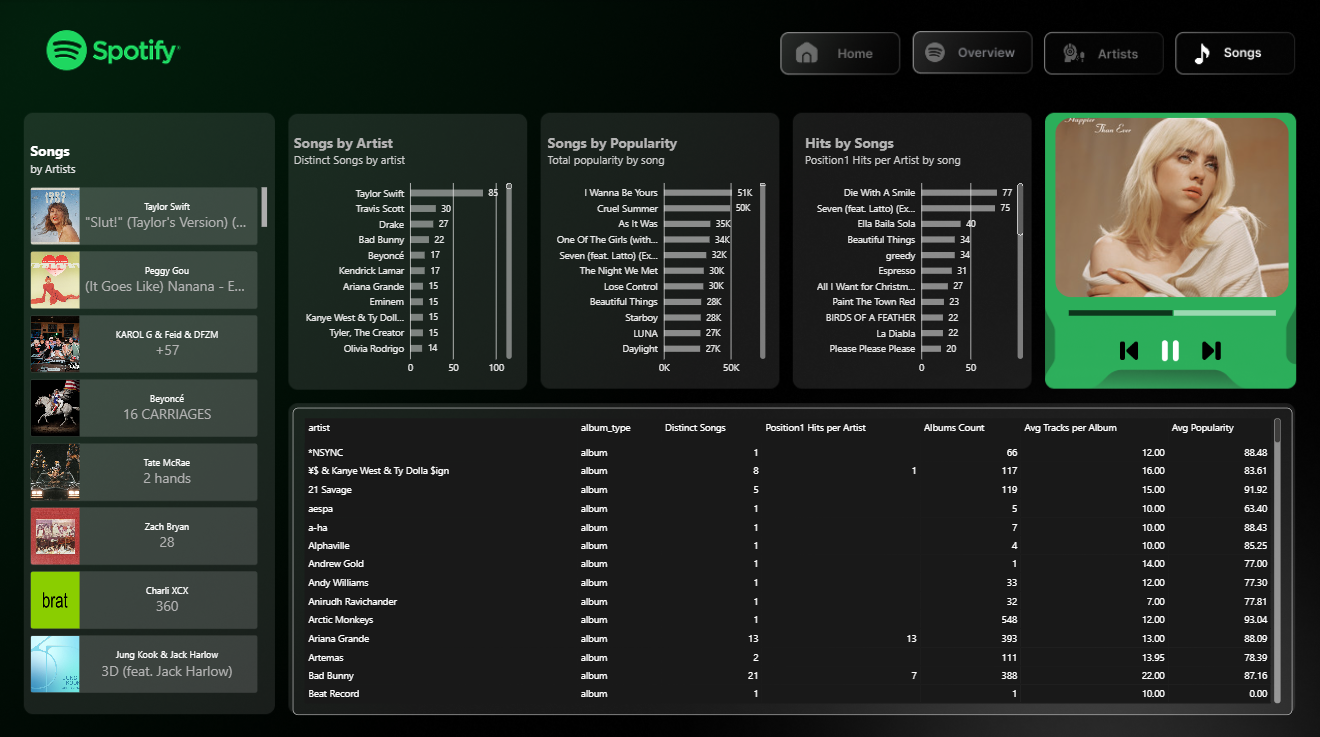

The dashboard page shown, as its layout file describes it:
{"tool":"powerbi","page":{"name":"Songs","canvas":[1920,1080],"ordinal":3},"visuals":[{"type":"actionButton","box":[1127.9,46.2,174.4,60.7],"z":0},{"type":"actionButton","box":[1321.9,46.2,174.4,60.7],"z":1000},{"type":"actionButton","box":[1510.1,46.2,174.4,60.7],"z":2000},{"type":"actionButton","box":[1704.1,48.2,174.4,60.7],"z":3000},{"type":"advancedSlicerVisual","title":"Songs ","fields":{"Values":["Top-50-world.song"]},"box":[45.1,207.7,344.9,809.3],"z":3002},{"type":"hundredPercentStackedBarChart","fields":{"Y":["_Measures.Avg Popularity","_Measures.Avg Popularity Explicit"]},"box":[1538.3,409.6,333.1,86.2],"z":3005},{"type":"image","box":[1622.1,496.6,40,30],"z":3006},{"type":"image","box":[1741.7,496.6,40,30],"z":3007},{"type":"image","box":[1681.9,496.6,40,30],"z":3008},{"type":"image","box":[1534.4,172.4,339,260.6],"z":3009},{"type":"tableEx","fields":{"Values":["Top-50-world.artist","Top-50-world.album_type","_Measures.Distinct Songs","_Measures.Position1 Hits per Artist","_Measures.Albums Count","_Measures.Avg Tracks per Album","_Measures.Avg Popularity"]},"box":[427.2,593.8,1452.1,446.8],"z":3010},{"type":"clusteredBarChart","title":"Hits by Songs","fields":{"Category":["Top-50-world.song"],"Y":["_Measures.Position1 Hits per Artist"]},"box":[1154.2,180.3,348.8,386],"z":3013},{"type":"clusteredBarChart","title":"Songs by Artist","fields":{"Category":["Top-50-world.artist"],"Y":["_Measures.Distinct Songs"]},"box":[412.5,180,348.8,386],"z":3014},{"type":"clusteredBarChart","title":"Songs by Popularity","fields":{"Category":["Top-50-world.song"],"Y":["Sum(Top-50-world.popularity)"]},"box":[779.9,180.3,348.8,386],"z":3016},{"type":"textbox","box":[45,0,345,150],"z":3017}]}

Visuals, with their boxes in screenshot pixels (x1, y1, x2, y2), scaled from the page's 1920x1080 canvas onto the 1320x737 screenshot:
actionButton: (775, 32, 895, 73)
actionButton: (909, 32, 1029, 73)
actionButton: (1038, 32, 1158, 73)
actionButton: (1172, 33, 1291, 74)
"Songs " advancedSlicerVisual: (31, 142, 268, 694)
hundredPercentStackedBarChart - _Measures.Avg Popularity x _Measures.Avg Popularity Explicit: (1058, 280, 1287, 338)
image: (1115, 339, 1143, 359)
image: (1197, 339, 1225, 359)
image: (1156, 339, 1184, 359)
image: (1055, 118, 1288, 295)
tableEx - Top-50-world.artist x Top-50-world.album_type: (294, 405, 1292, 710)
"Hits by Songs" clusteredBarChart: (794, 123, 1033, 386)
"Songs by Artist" clusteredBarChart: (284, 123, 523, 386)
"Songs by Popularity" clusteredBarChart: (536, 123, 776, 386)
textbox: (31, 0, 268, 102)
